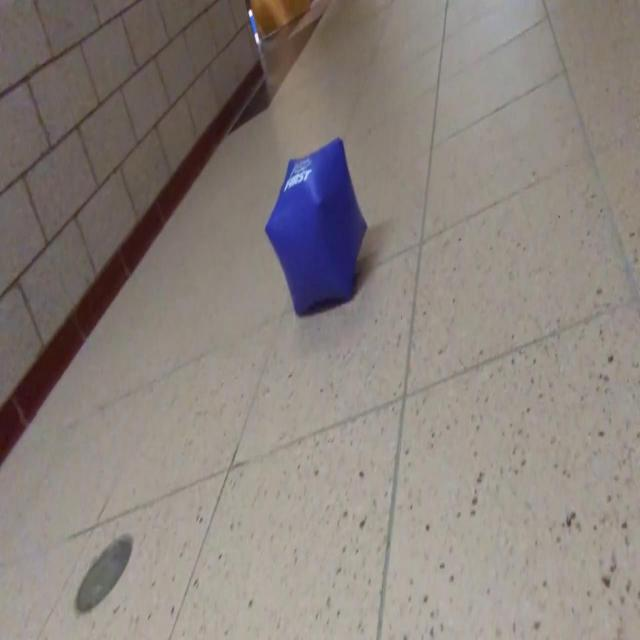frc_cube: (264, 138, 366, 314)
